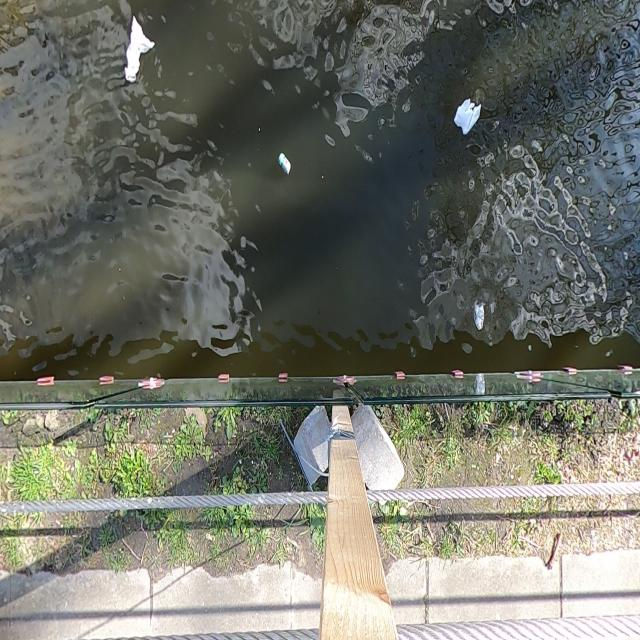Non plastique: (275, 150, 294, 179)
Sac plastique: (121, 12, 156, 91), (450, 92, 485, 140)
